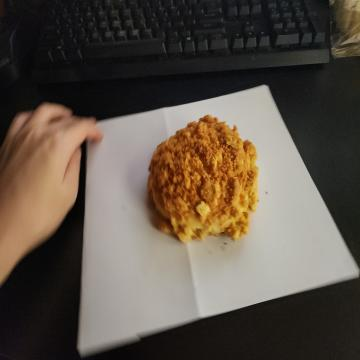soboru_bread: (143, 114, 261, 246)
